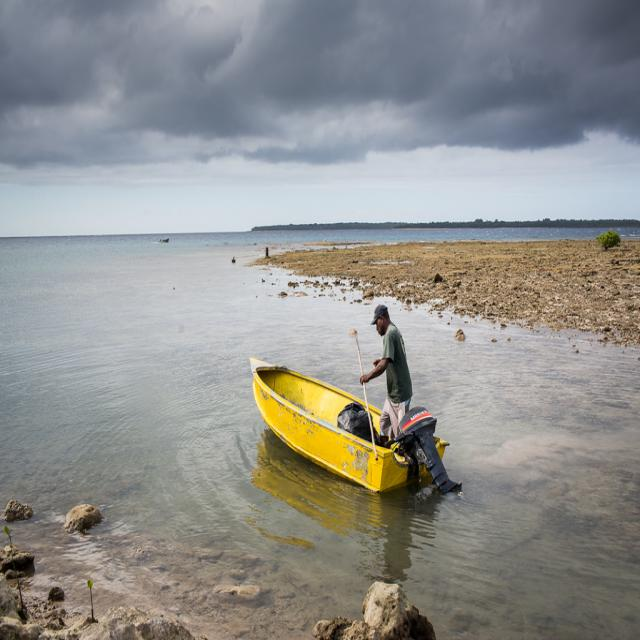Boat: (250, 354, 449, 488)
